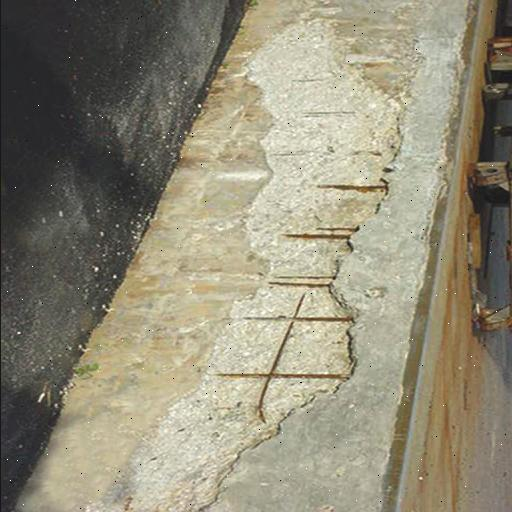spalling: (137, 16, 396, 509)
